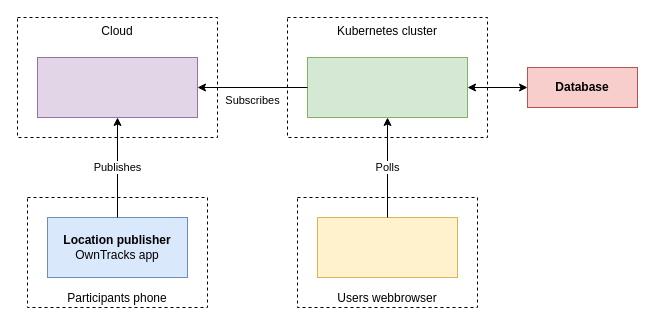
This 655x325 diagram has some shape labels left out. The shapes that lost their labels are listed below. From the top down, each one's centre as x and y in pixels, then its label:
At [117,87]: "MQTT Broker Eclipse Mosquitto".
At [387,87]: "Location API Go backend".
At [387,247]: "Location visualizer React frontend".
